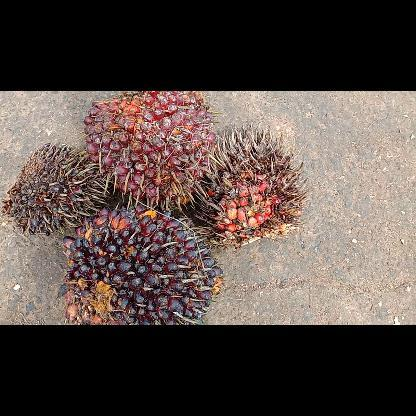Kurang masak: (60, 204, 224, 324)
TBS abnormal: (0, 140, 104, 236)
TBS masak: (82, 92, 216, 212)
Terlalu masak: (192, 122, 306, 246)
